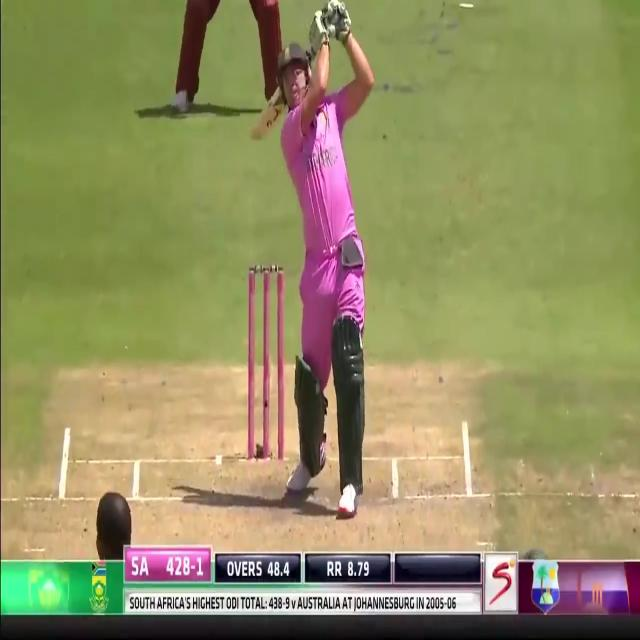Ball: (291, 0, 368, 509)
